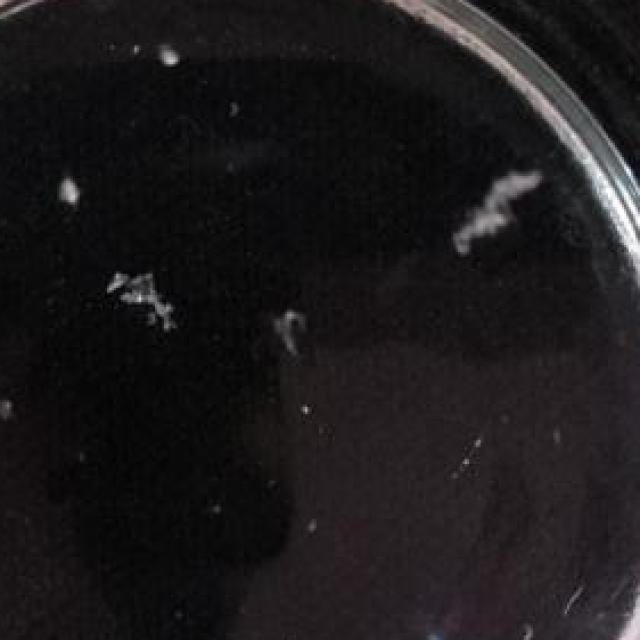Microplastic: (446, 145, 544, 283), (105, 264, 187, 352), (262, 290, 298, 350), (162, 27, 200, 72), (57, 164, 84, 217), (282, 609, 316, 640)
